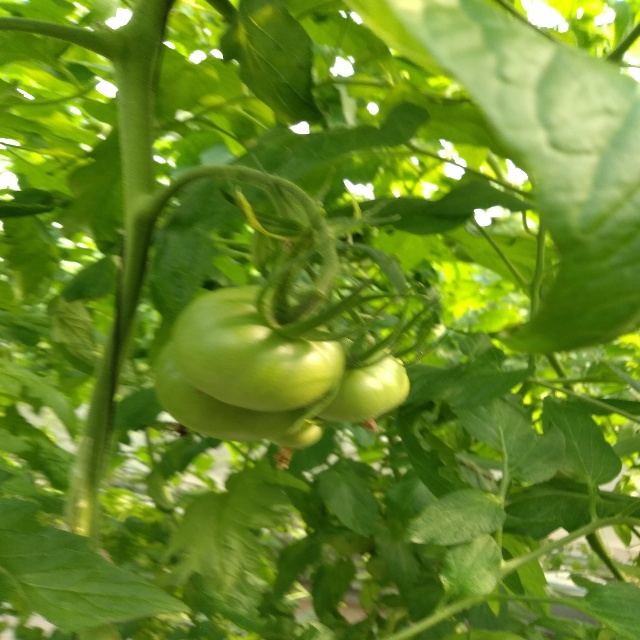b_green: (170, 286, 346, 413), (155, 341, 322, 442), (311, 337, 411, 422)
